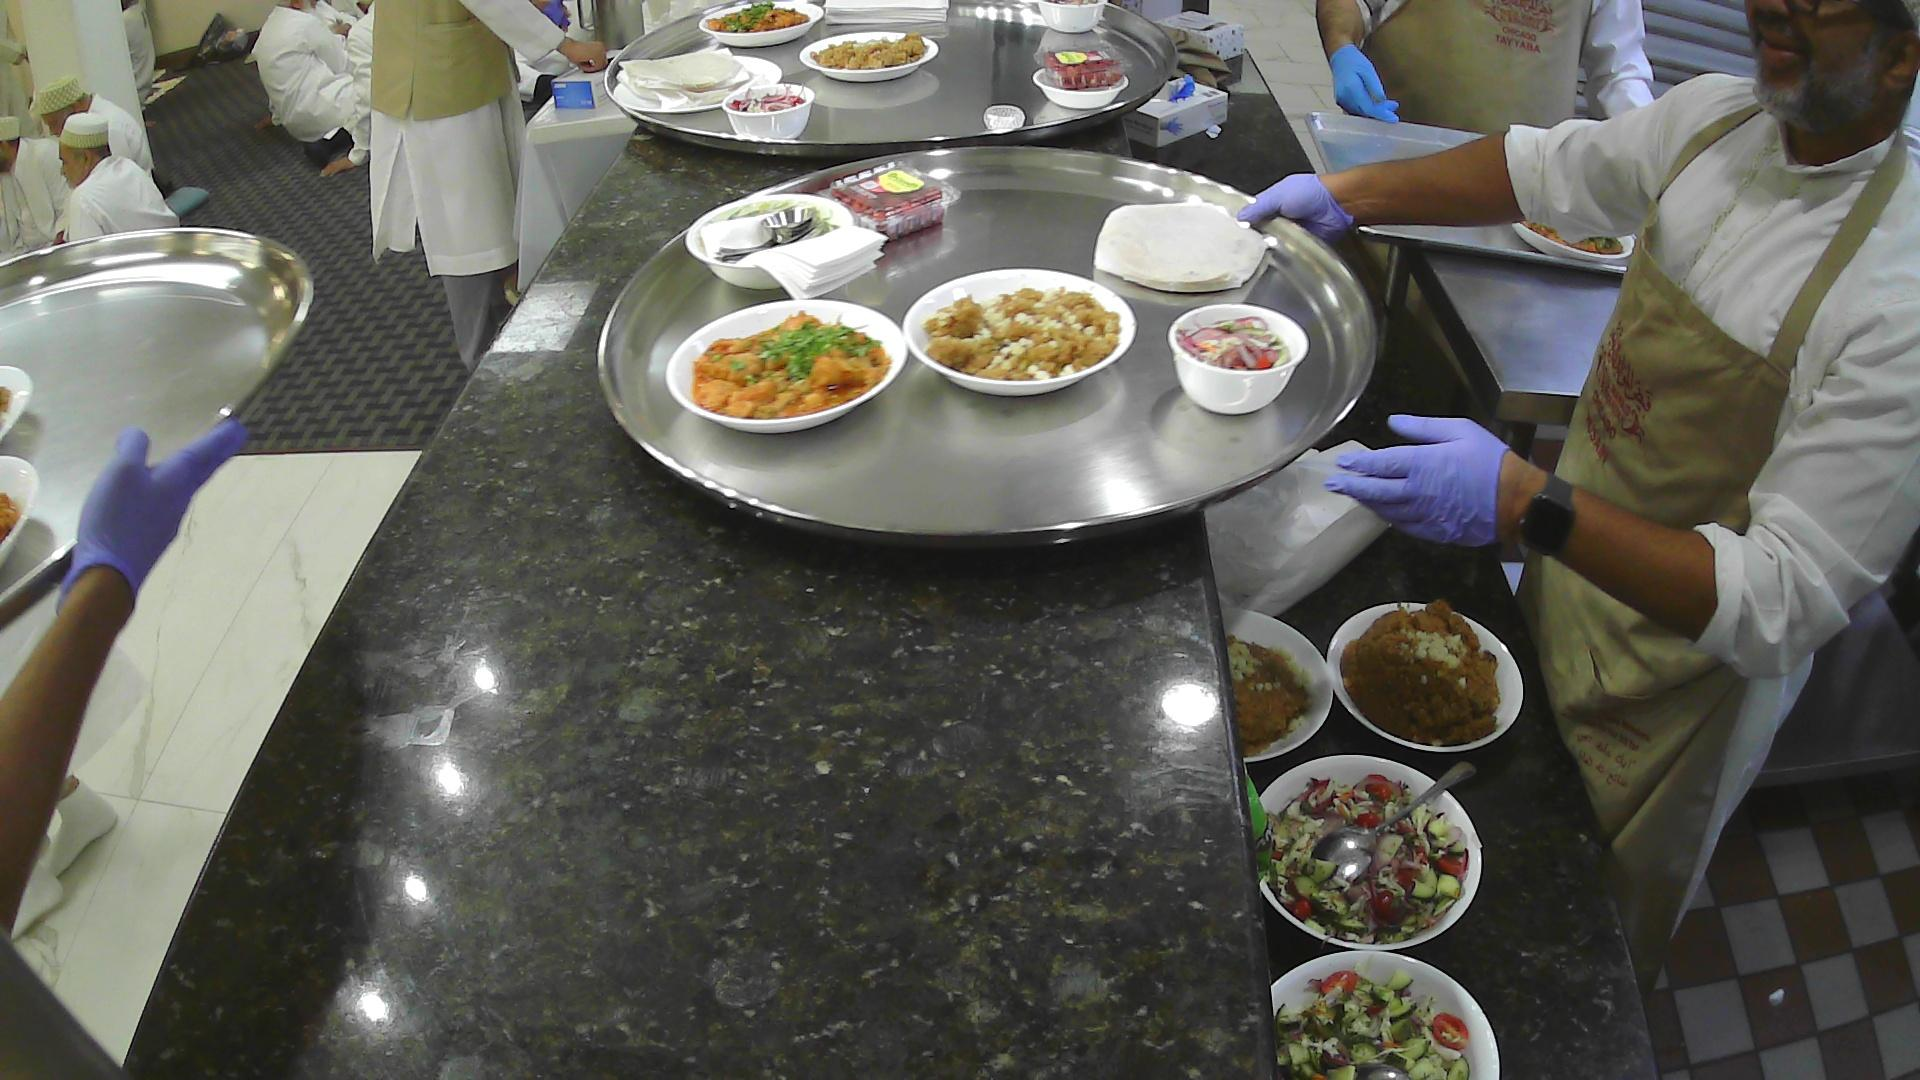thaal: (593, 142, 1382, 554), (0, 220, 322, 632), (603, 0, 1180, 161)
